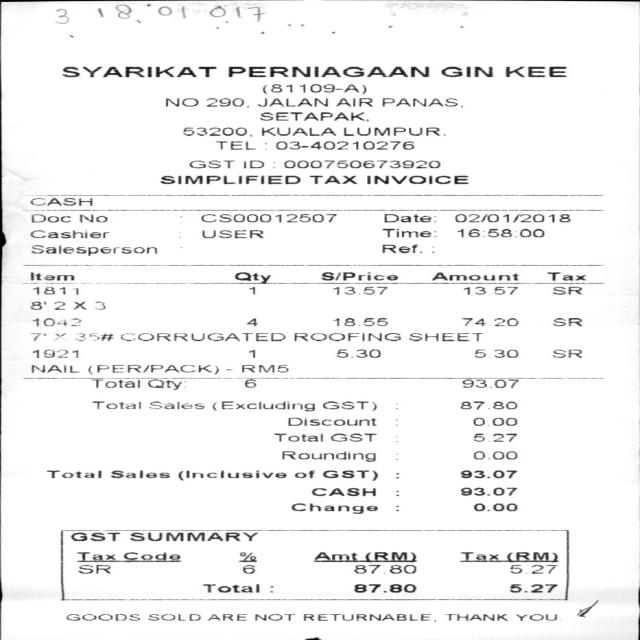text: (227, 66, 428, 77), (61, 66, 216, 77), (119, 332, 284, 342), (30, 244, 156, 256), (129, 530, 255, 542), (87, 364, 218, 375), (276, 140, 413, 150), (200, 213, 336, 223), (159, 175, 299, 184), (283, 160, 439, 168), (303, 613, 434, 622), (261, 84, 365, 95), (259, 112, 367, 122), (178, 470, 285, 480), (293, 332, 399, 342), (289, 502, 376, 514), (281, 451, 375, 462), (30, 228, 109, 241), (212, 401, 314, 411), (273, 432, 375, 442), (312, 551, 416, 560), (454, 214, 569, 222), (365, 175, 467, 184), (343, 127, 444, 136), (429, 272, 520, 281), (381, 98, 461, 108), (456, 228, 544, 237), (287, 417, 375, 426), (319, 271, 396, 281), (462, 552, 557, 560), (408, 332, 482, 342), (256, 97, 326, 107), (181, 126, 250, 136), (260, 127, 335, 136), (29, 301, 104, 310), (504, 66, 565, 77), (352, 564, 417, 574), (461, 377, 517, 388), (322, 470, 376, 481), (65, 613, 139, 621), (30, 197, 94, 206), (92, 378, 140, 390), (310, 487, 374, 496), (440, 66, 491, 77), (353, 584, 415, 593), (69, 531, 119, 542), (322, 400, 375, 410), (383, 213, 435, 223), (460, 487, 516, 496), (202, 584, 258, 593), (443, 613, 506, 621), (200, 230, 262, 238), (381, 228, 435, 237), (463, 286, 517, 295), (332, 286, 386, 295), (508, 564, 556, 574), (122, 552, 181, 560), (110, 470, 168, 478), (28, 272, 74, 282), (461, 318, 517, 326), (460, 401, 516, 409), (460, 470, 516, 478), (233, 271, 270, 283), (29, 364, 78, 373), (336, 348, 380, 358), (148, 401, 203, 409), (472, 432, 516, 442), (472, 450, 516, 460), (45, 470, 100, 478), (308, 175, 356, 184), (332, 318, 386, 326), (205, 98, 248, 108), (509, 584, 556, 593), (147, 613, 199, 621), (32, 286, 78, 295), (31, 349, 77, 358), (214, 140, 255, 150), (471, 417, 516, 426), (474, 349, 517, 358), (77, 563, 112, 574), (32, 318, 80, 326), (240, 364, 288, 372), (91, 401, 139, 409), (147, 378, 181, 389), (335, 97, 372, 107), (548, 270, 585, 280), (187, 160, 233, 168), (381, 244, 421, 253), (76, 552, 116, 561), (472, 503, 516, 511), (515, 613, 556, 621), (30, 214, 70, 222), (254, 613, 294, 621), (207, 613, 246, 621), (74, 333, 112, 341), (164, 98, 197, 106), (551, 286, 580, 295), (551, 349, 580, 358), (551, 318, 581, 326), (77, 214, 106, 222), (238, 551, 257, 562), (240, 378, 256, 389), (243, 160, 263, 168), (294, 470, 314, 478), (241, 564, 254, 574), (30, 333, 45, 341), (54, 333, 65, 341), (246, 318, 256, 326), (248, 349, 254, 358), (248, 286, 254, 294)
